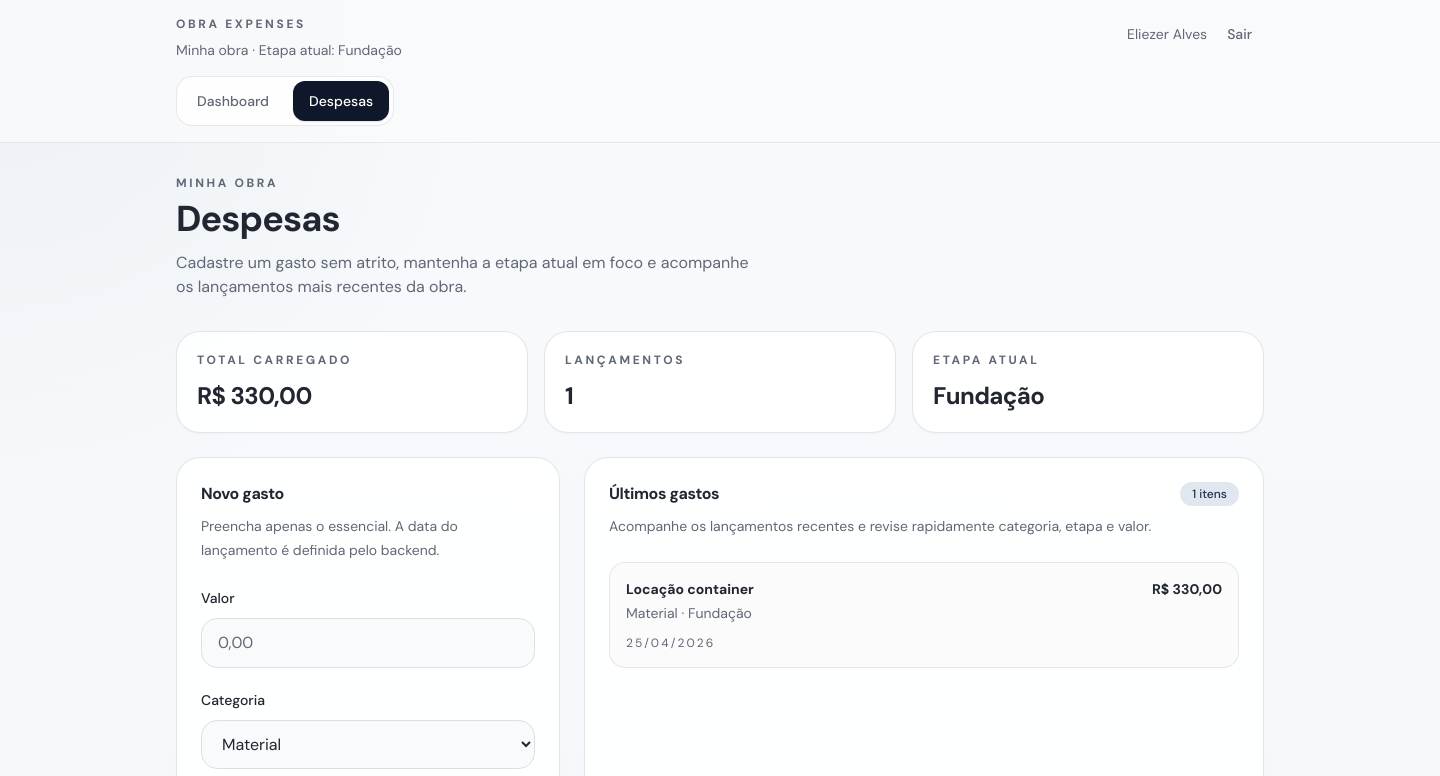
Test: ExpensesPage › shows the backend error when expense submission fails
This screenshot has width=1440, height=776.
In the number field labelled "Valor": (368, 643) [201, 618, 535, 668], type "120"
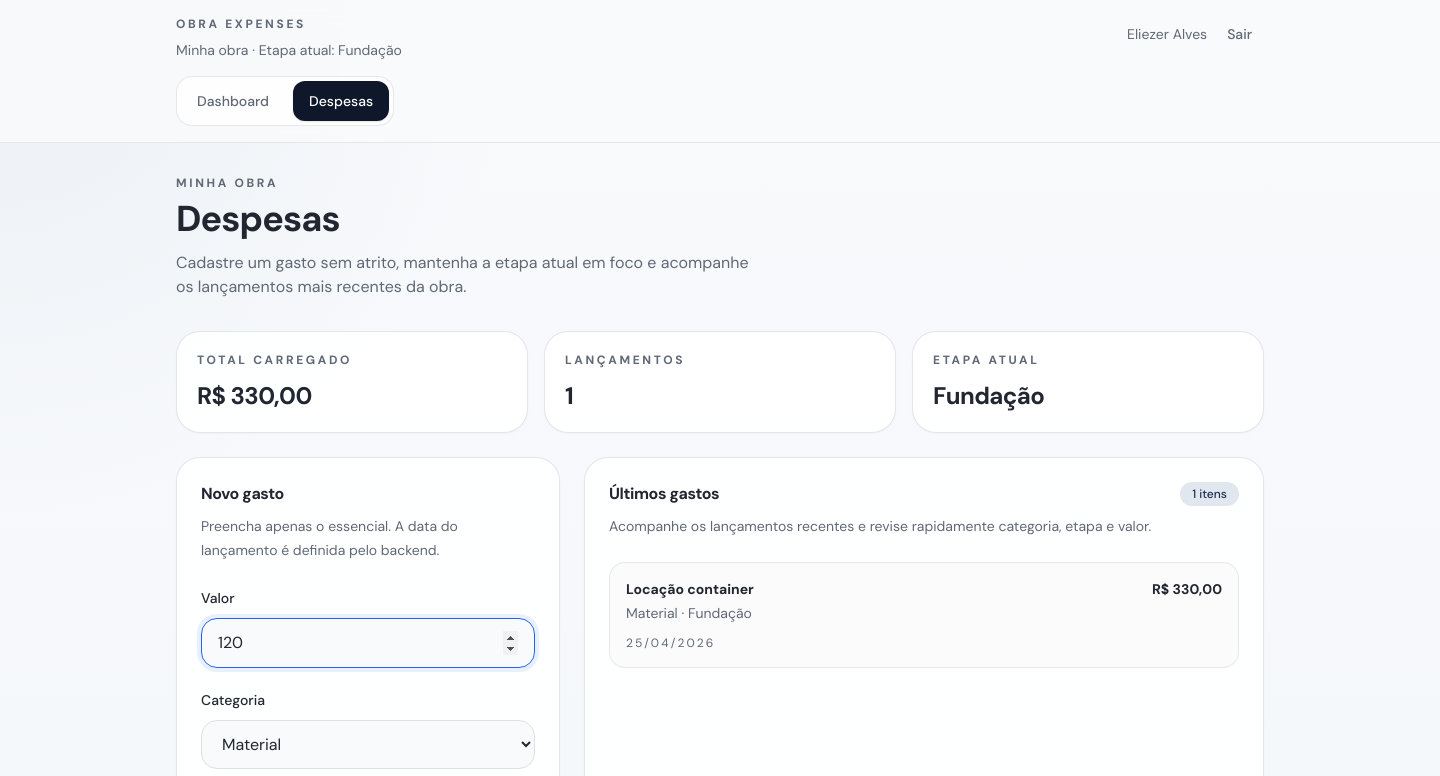
Select "Mão de Obra" in the dropdown labelled "Categoria": (368, 744) [201, 720, 535, 769]
(page scrolled)
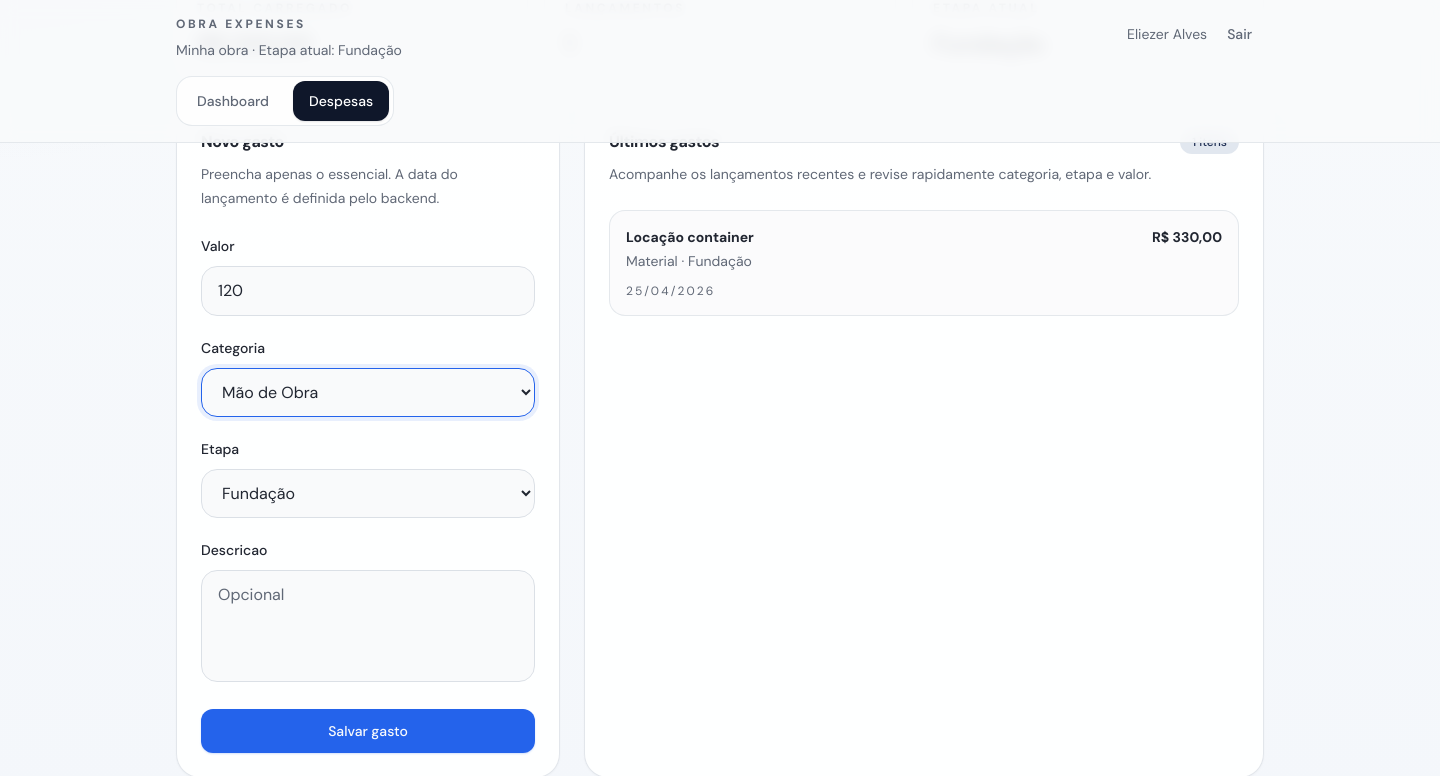
Select "Estrutura" in the dropdown labelled "Etapa": (368, 494) [201, 469, 535, 518]
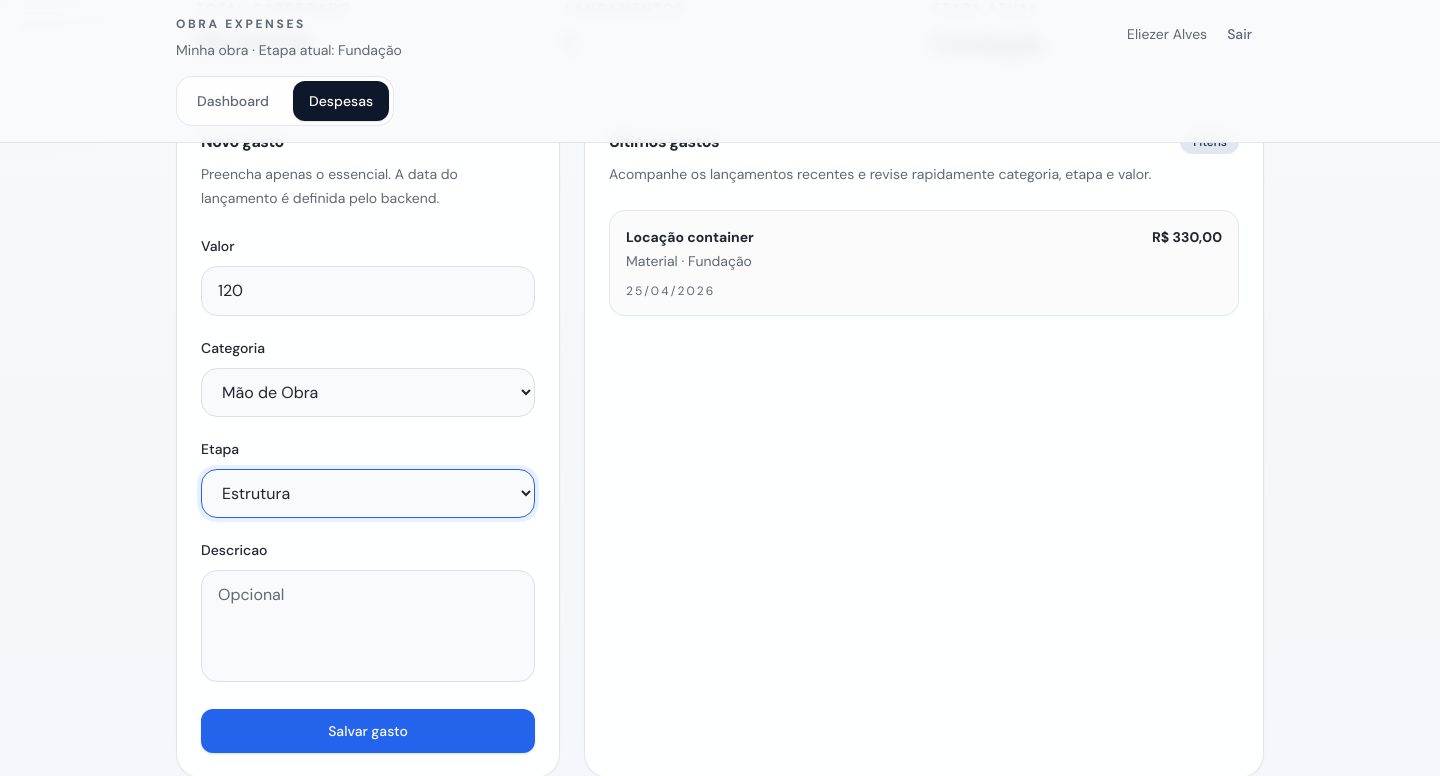
Click the button "Salvar gasto": click(368, 731) [201, 709, 535, 753]
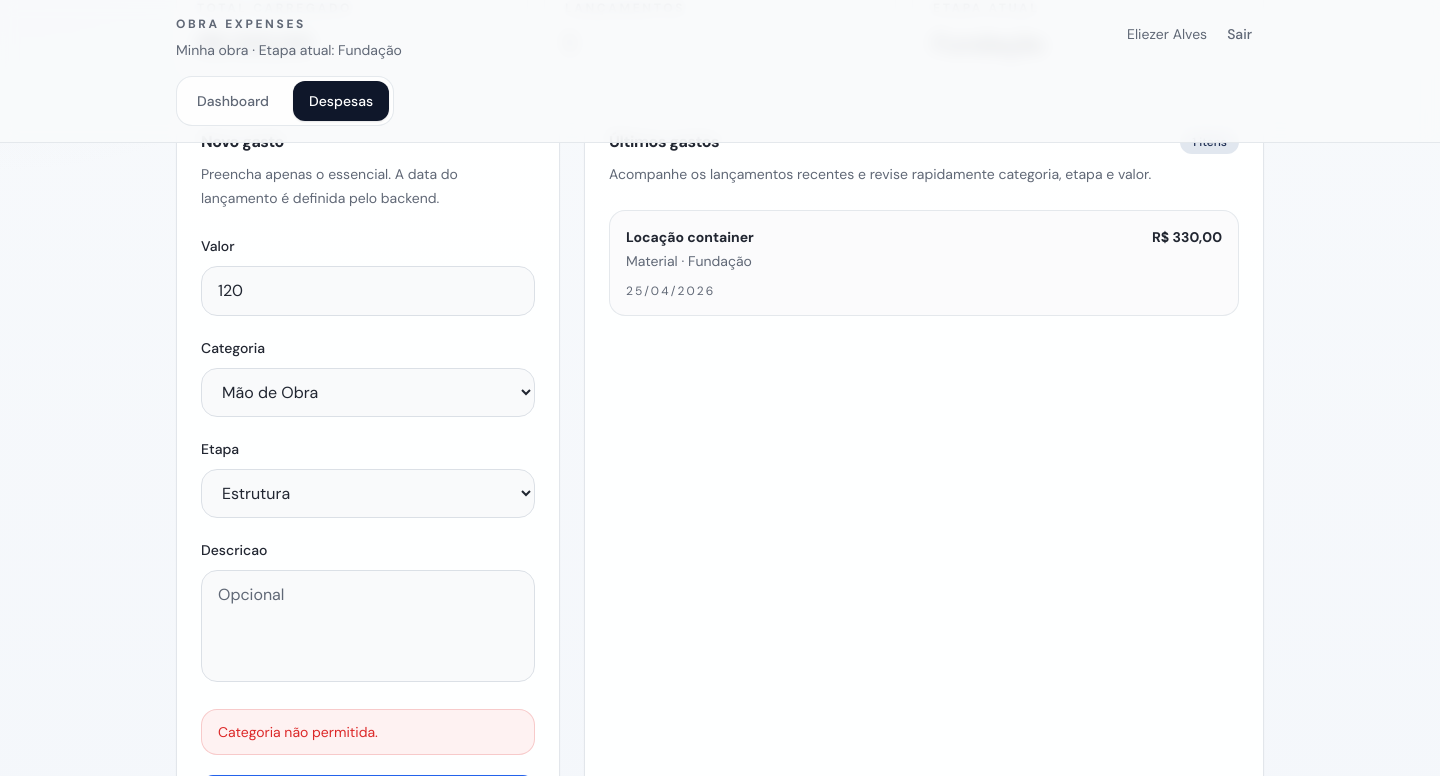
Expected: the text "Categoria não permitida." is shown, [201, 709, 535, 755]
